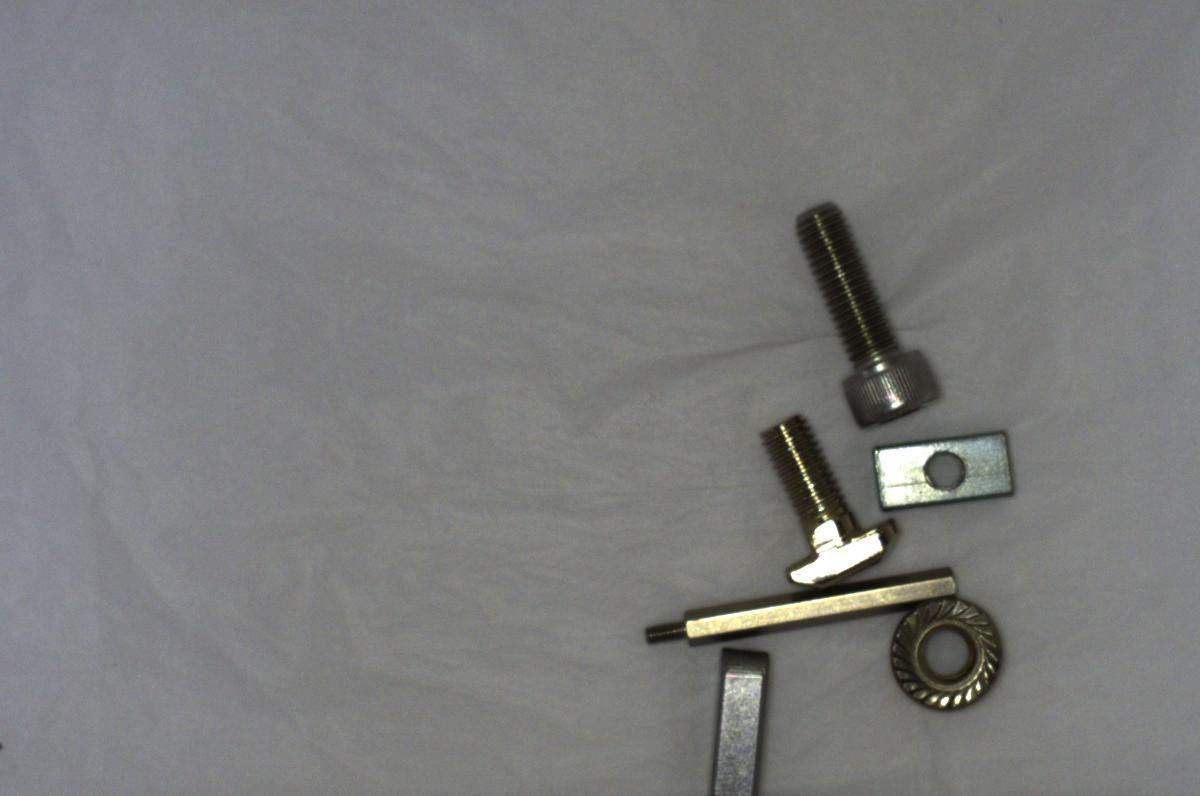Flange nut: (878, 591, 1010, 715)
Hexagon screw: (787, 186, 947, 427)
Hexagonal steel column: (638, 565, 960, 649)
Keybar: (670, 642, 789, 795)
Rectangular nut: (856, 427, 1024, 513)
T-shaped screw: (752, 401, 896, 590)
